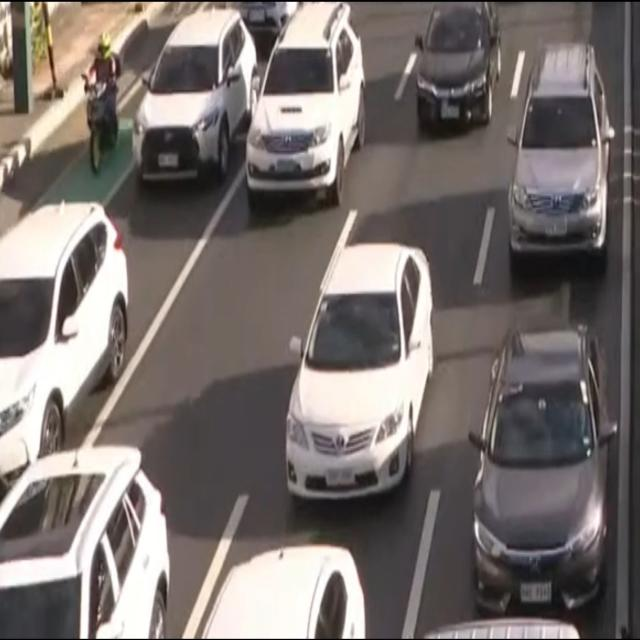Motorcycle: (81, 29, 120, 184)
SUV: (0, 204, 129, 463), (0, 448, 173, 640), (252, 8, 368, 212), (504, 43, 608, 258)
Sedan: (474, 326, 610, 609), (284, 242, 426, 499), (133, 13, 257, 182), (191, 542, 370, 640), (410, 0, 502, 131)
